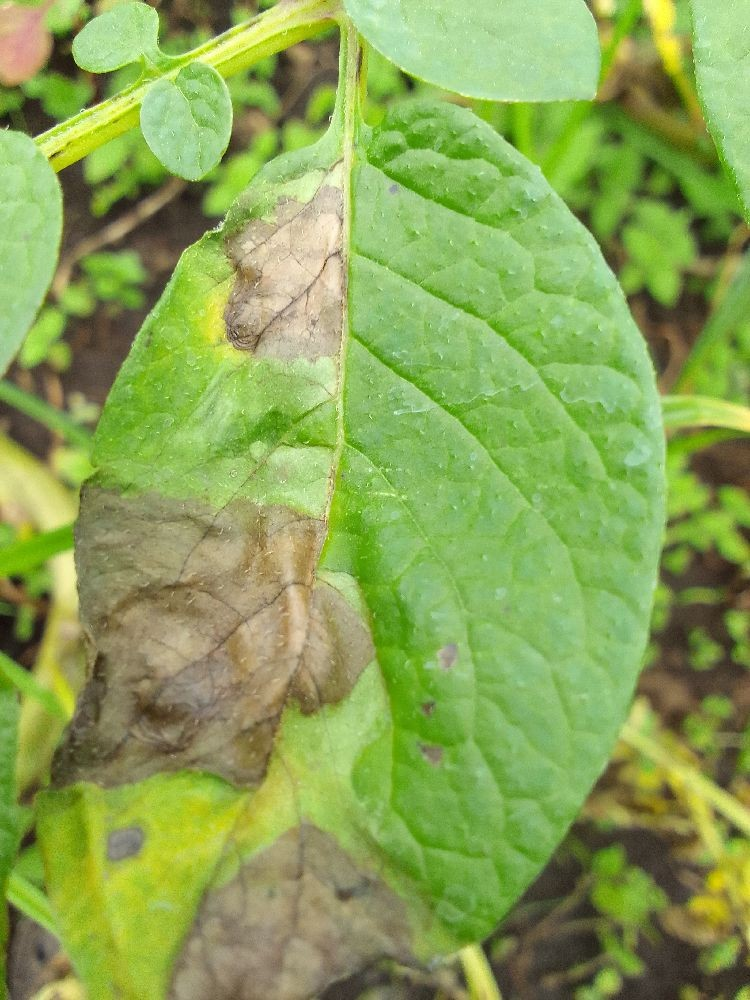late_blight: (0, 129, 255, 443), (205, 181, 365, 375), (0, 888, 86, 1000)
